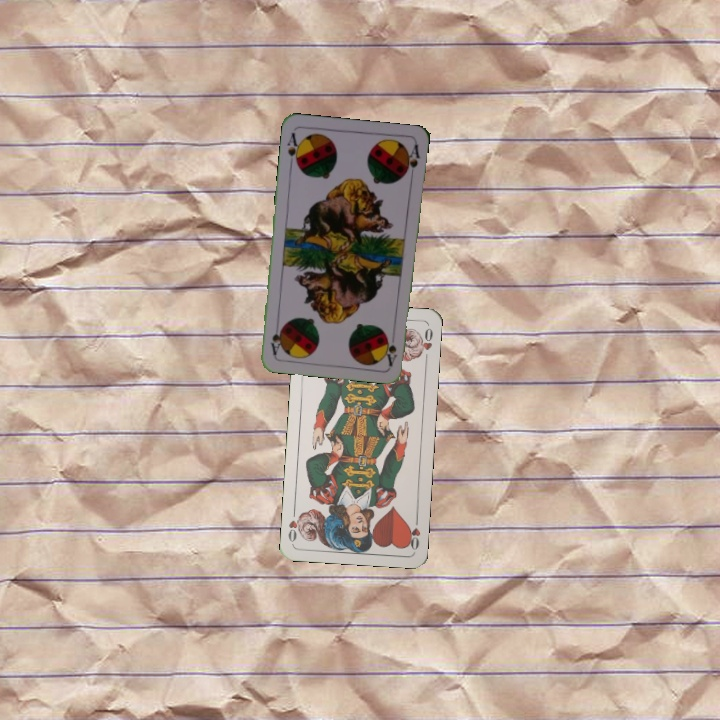HO: (404, 512, 423, 552)
SA: (283, 129, 303, 169), (383, 338, 400, 368)
